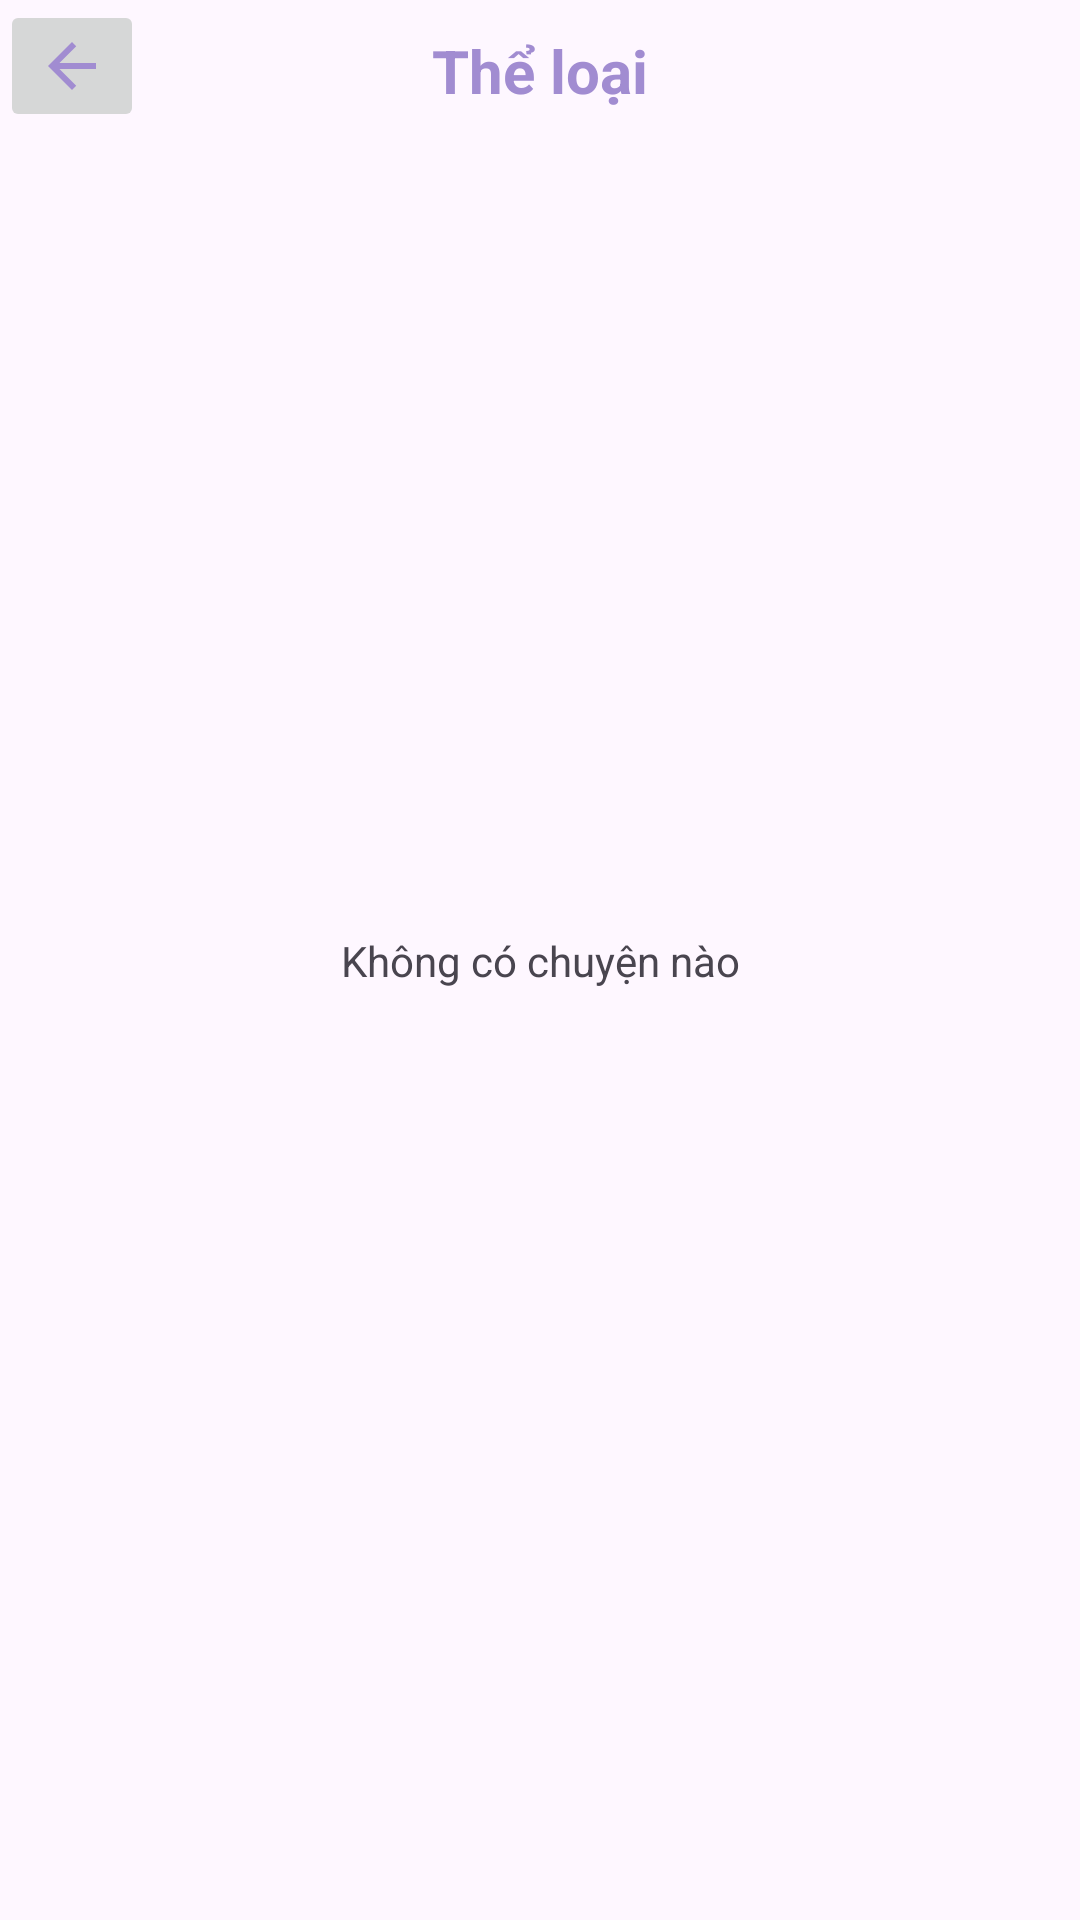

Icon bounding boxes for this 1080*1920 phone screenshot, format box=[x1, y1, x2, y2]:
arrow back main: box=[12, 18, 132, 114]
